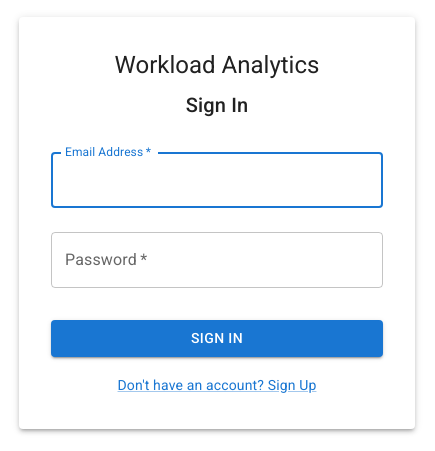
Test: Login Component › shows loading state during login
The image size is (435, 451).
In the field labelled "Email Address *": (217, 180) [51, 152, 383, 208], type "test@example.com"
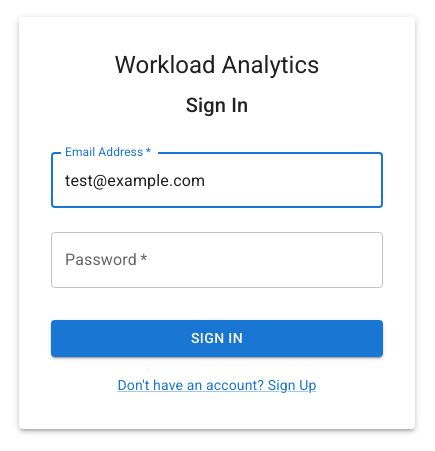
In the password field labelled "Password *": (217, 260) [51, 232, 383, 288], type "password123"
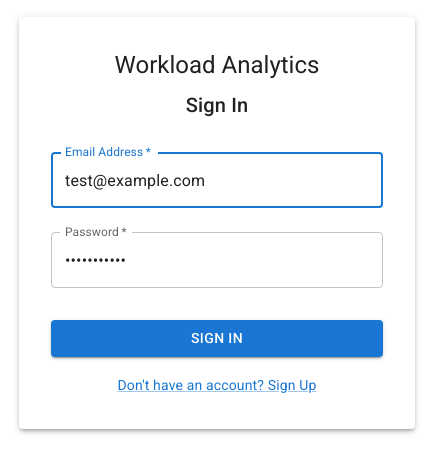
Click the button "Sign In": (217, 339) [51, 320, 383, 357]
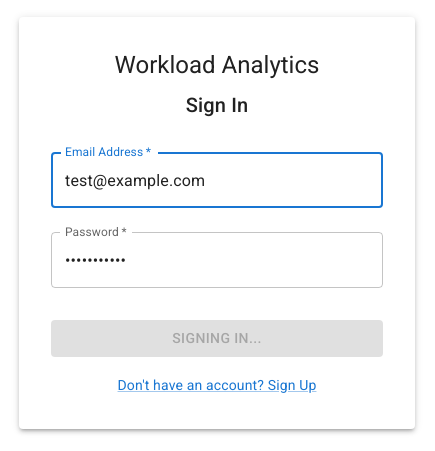
Expected: the button "Signing in..." is disabled, [51, 320, 383, 357]
